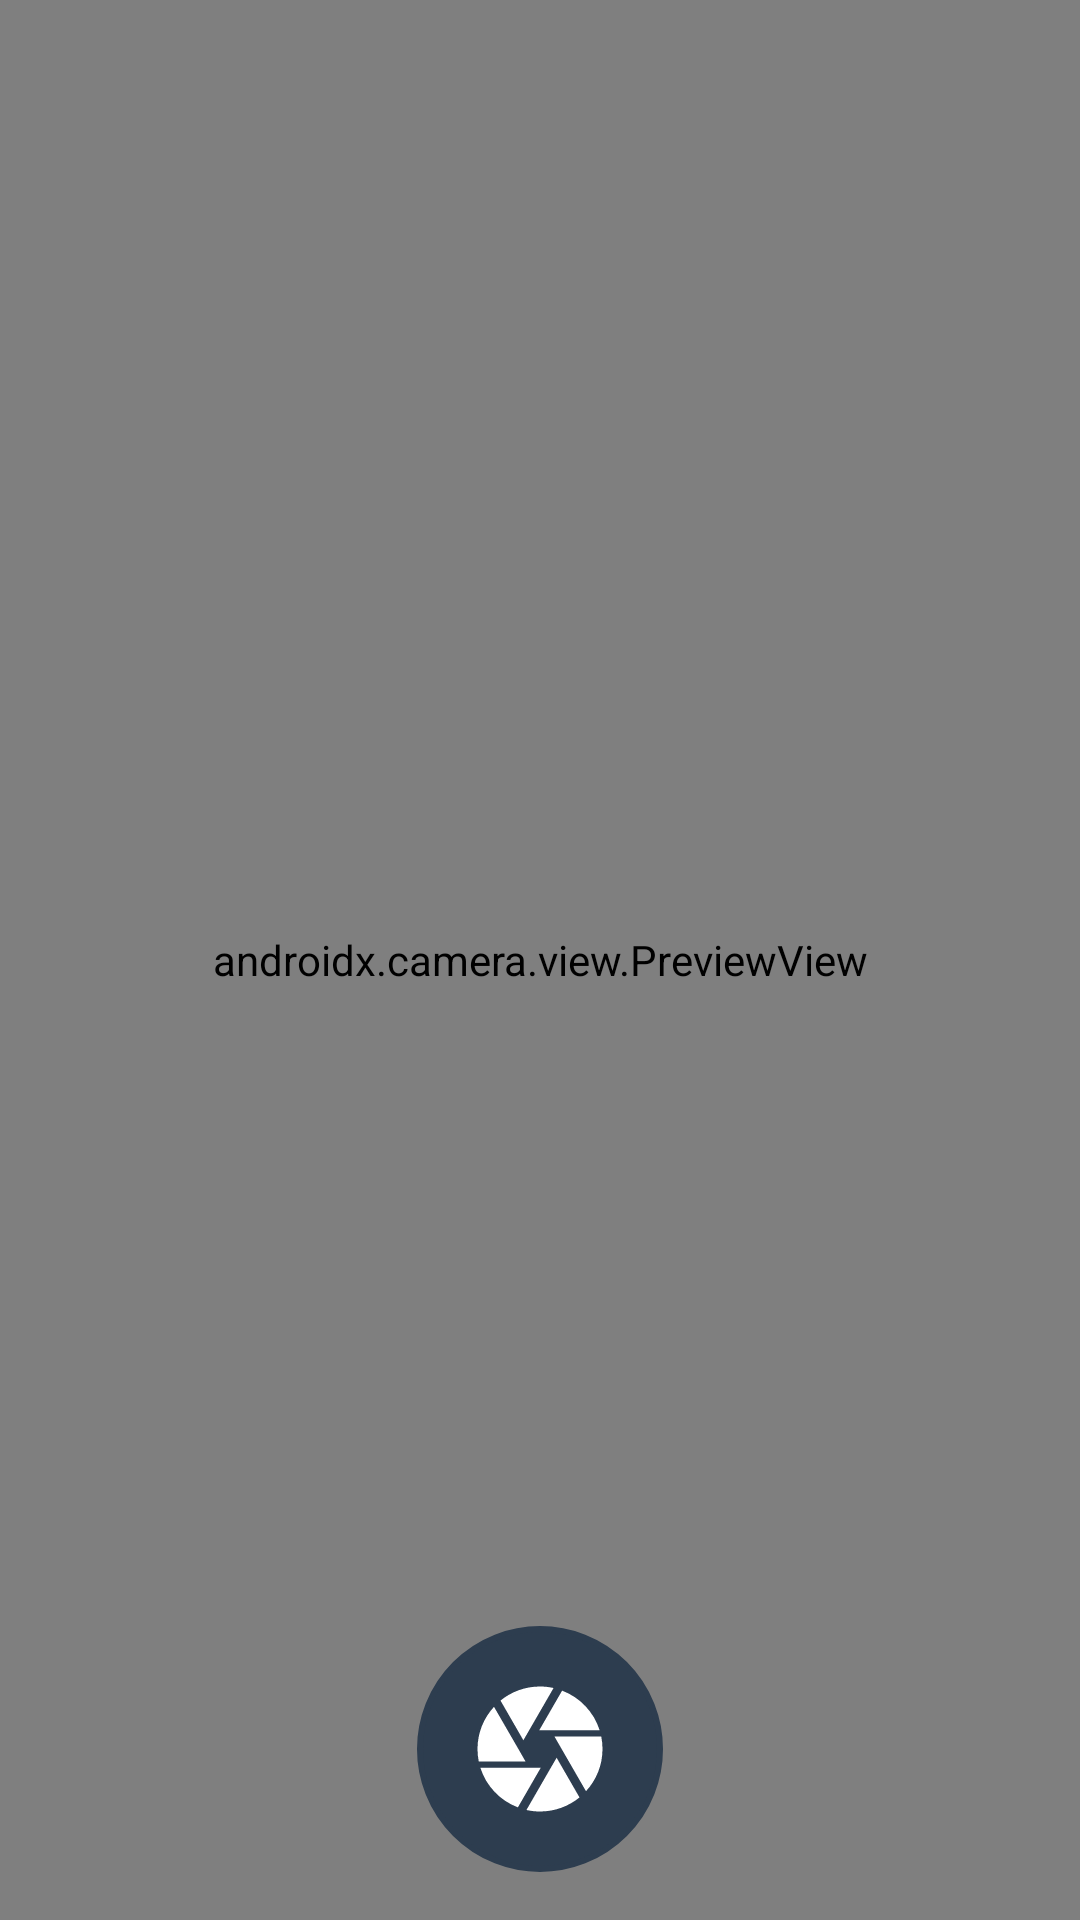

Icon click points for this 1080w x 1920h phone screenshot, format (x,y):
Capture Button: (540,1749)
